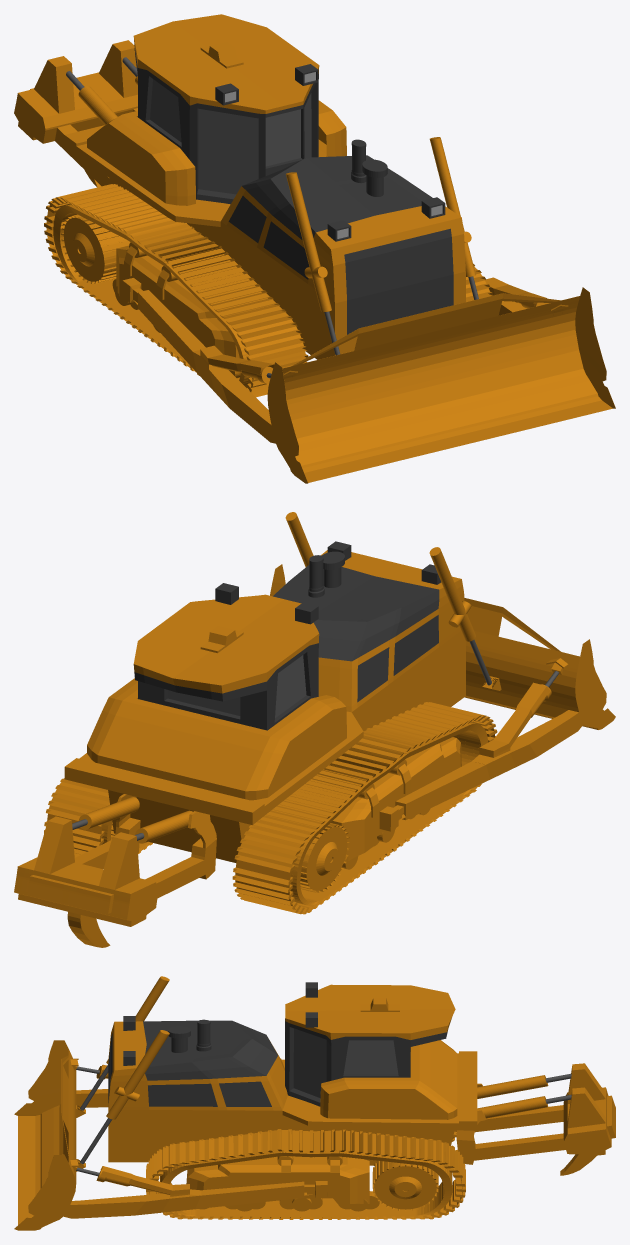
Rendered from Mesh_Goat.obj.
3 renders of one model, top to bottom at view 1: azimuth 30°, elevation 25°; view 2: azimuth 150°, elevation 25°; view 3: azimuth 270°, elevation 25°, orthographic. The views are drawn at different scales.
Visible parts, largest first — view 1: roda_Cylinder.010; view 2: roda_Cylinder.010; view 3: roda_Cylinder.010.
Part boxes in pixels (x1,y1,x2,y2): roda_Cylinder.010: [14, 14, 615, 483]; roda_Cylinder.010: [14, 512, 615, 947]; roda_Cylinder.010: [14, 976, 615, 1230].
Bounding box in the file's own units: 4.8 × 3.41 × 10.67.
